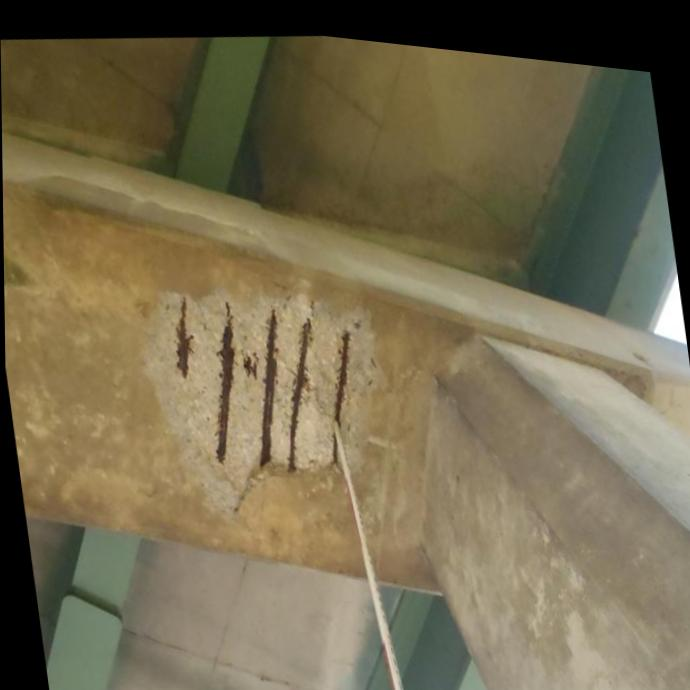damage: (139, 275, 379, 510)
